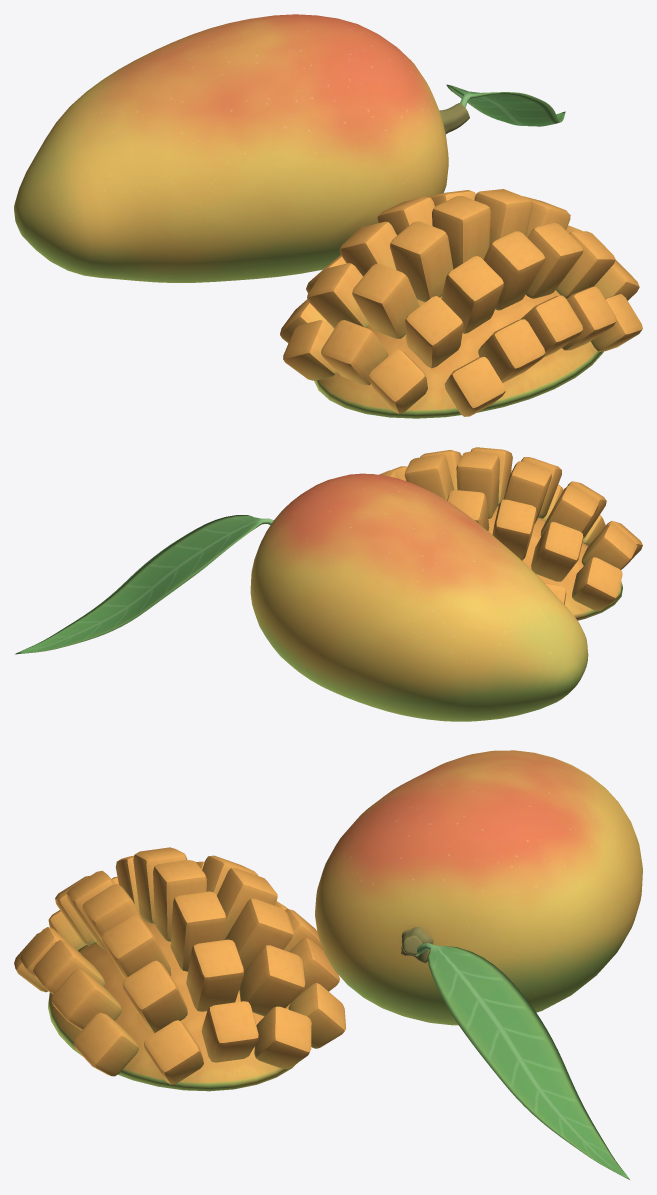
File: mango.glb
The picture shows the model from 3 angles, top to bottom: view 1: azimuth 30°, elevation 25°; view 2: azimuth 150°, elevation 25°; view 3: azimuth 270°, elevation 25°; orthographic projection. The views are drawn at different scales.
Parts seen in each view (by area): view 1: mango_body; view 2: mango_body; view 3: mango_body.
Part boxes in pixels (left/top/right/bottom): mango_body: left=14, top=14, right=642, bottom=418; mango_body: left=15, top=447, right=642, bottom=721; mango_body: left=14, top=750, right=642, bottom=1179.
Bounding box in the file's own units: 0.1854 × 0.0656 × 0.1648.
Materials: 1 (1 with a texture image).
